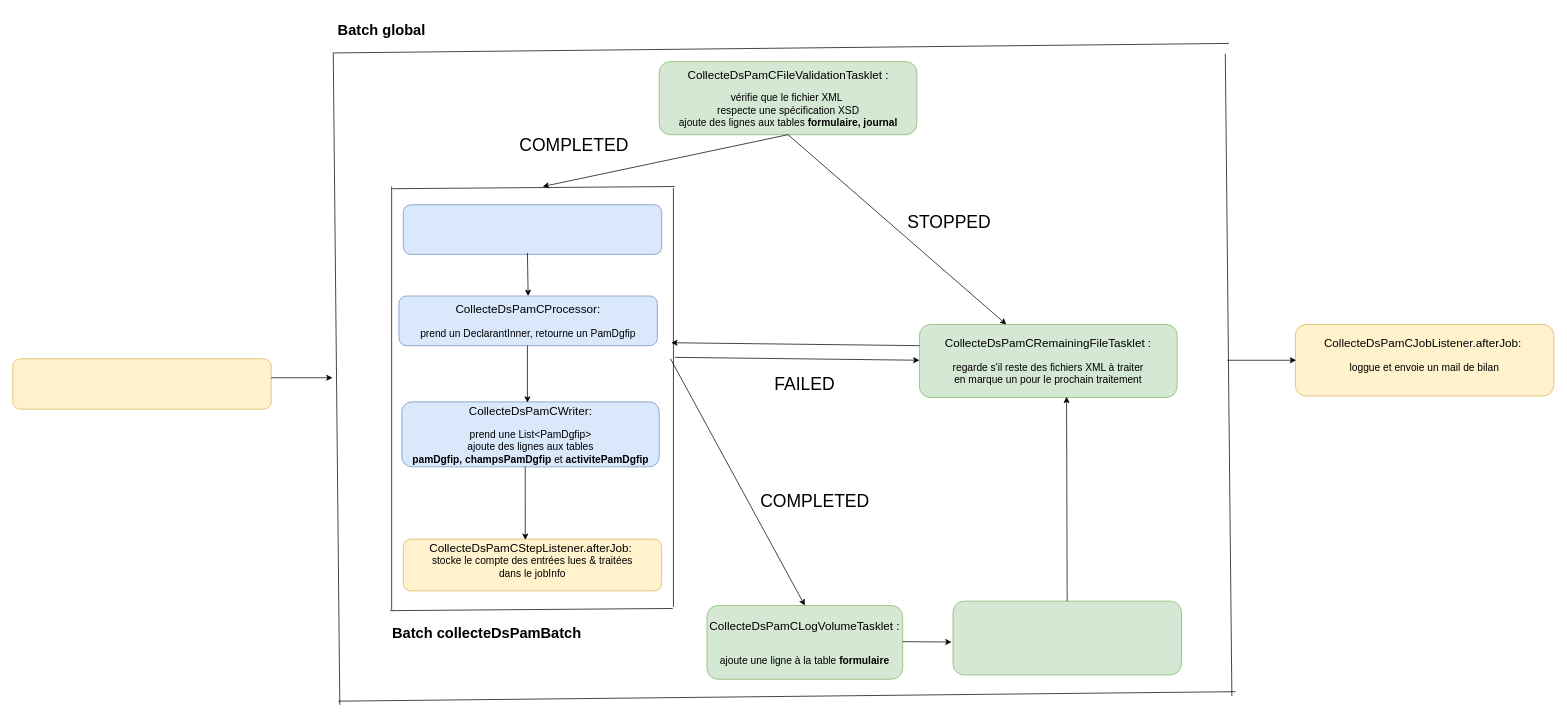
This 1567x718 diagram has some shape labels left out. Each missing label, with the centre of its shape:
"CollecteDsPamArchivageFileInputTasklet : archive le fichier XML traité" belongs at (1067,637).
"CollecteDsPamCJobListener.beforeJob: loggue les fichiers XML à traiter" belongs at (141,383).
"CollecteDsPamCReader: lit un fichier XML, retourne une List<DecalarantInner>" belongs at (532,229).
